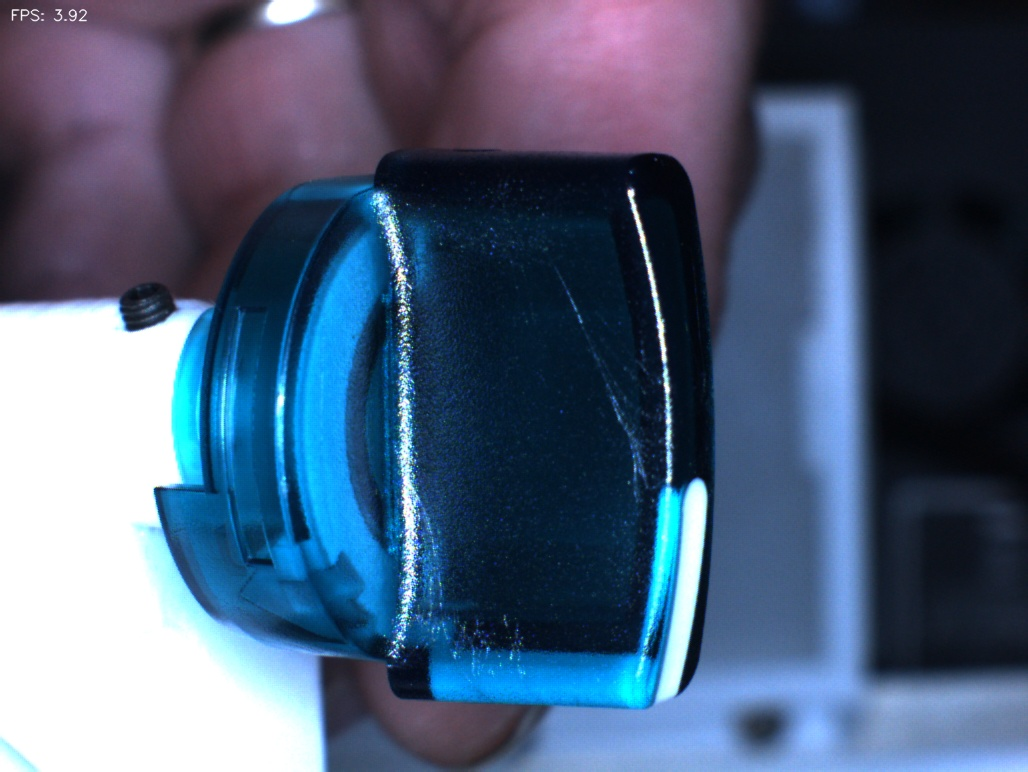Givrage: (576, 324, 663, 493)
